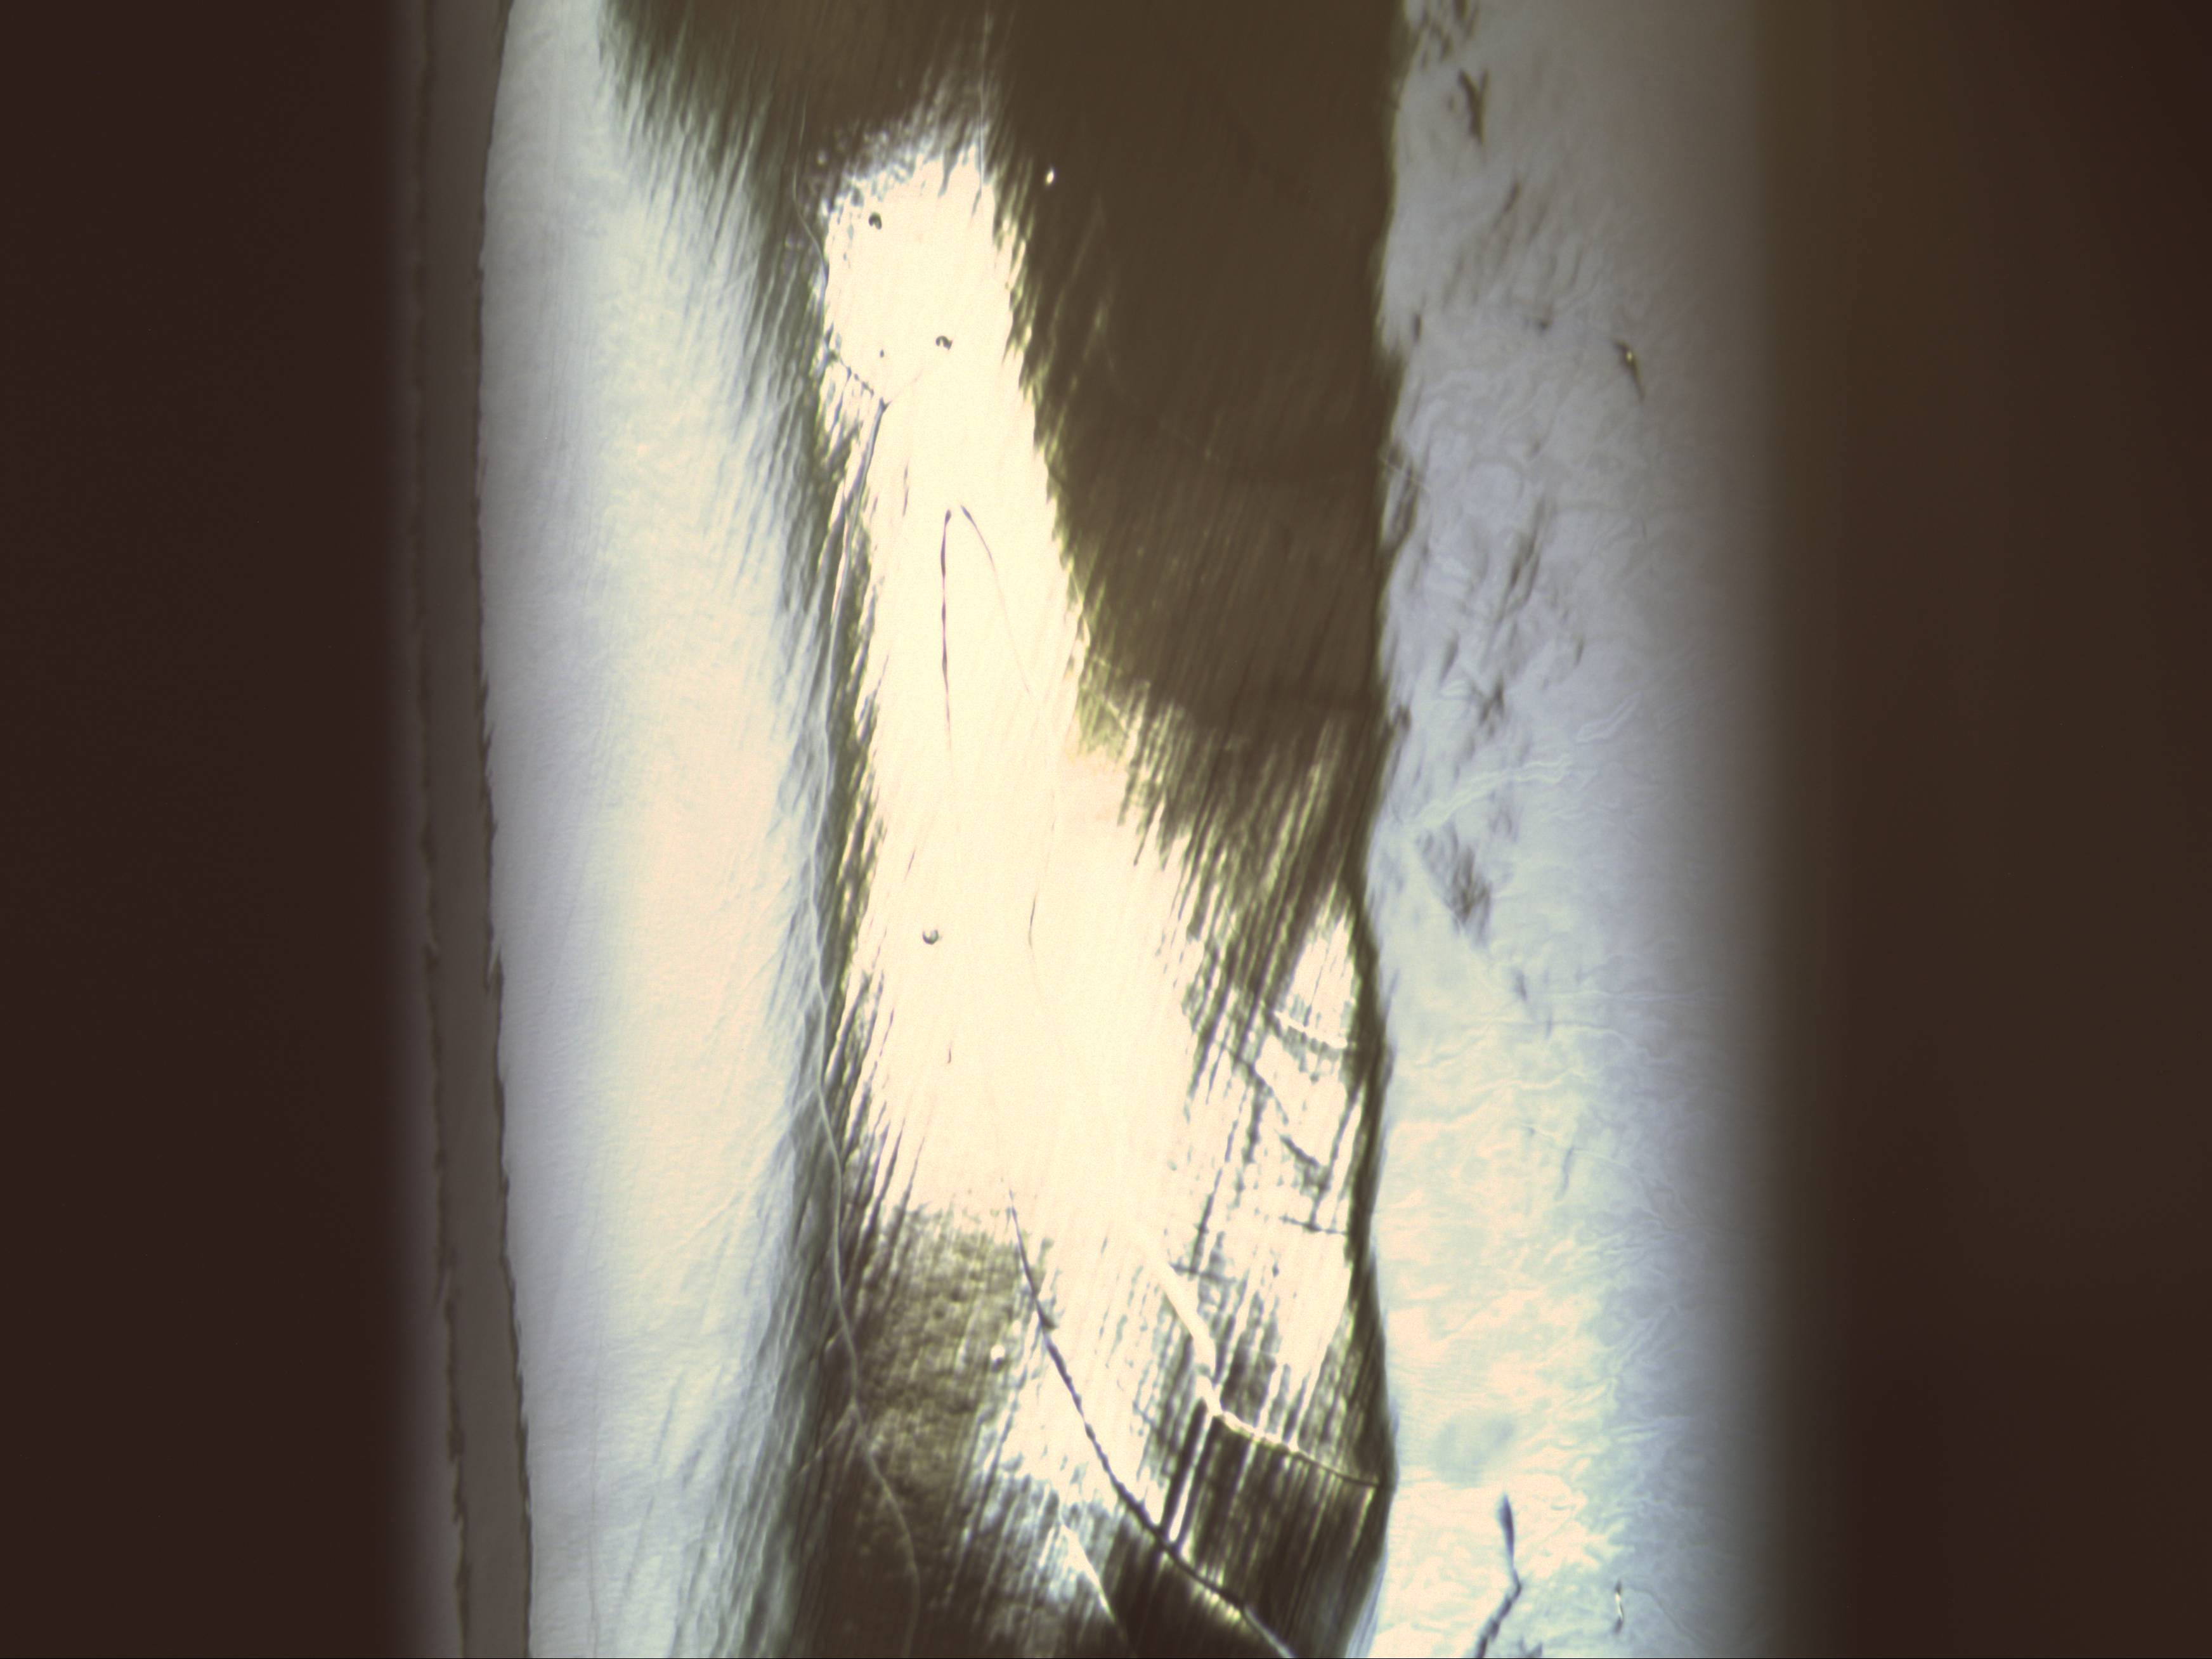defect: (914, 920, 949, 951), (859, 206, 892, 235), (932, 329, 958, 355)
